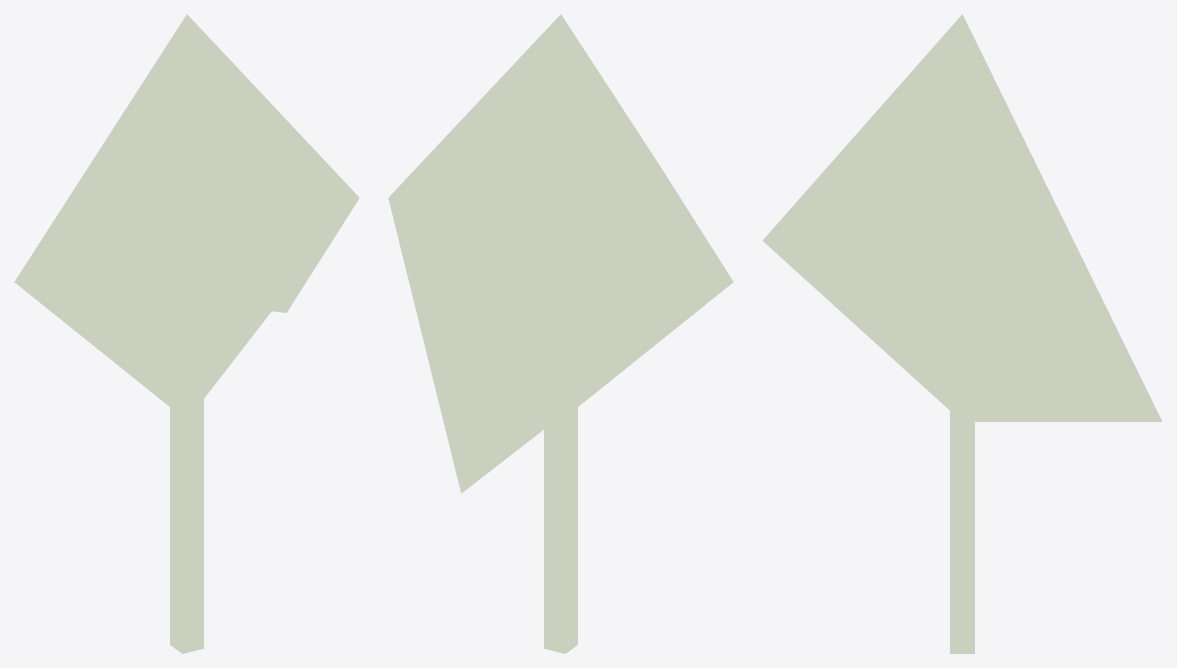
File: birch_mid.glb
3 renders of one model, left to right at view 1: azimuth 30°, elevation 25°; view 2: azimuth 150°, elevation 25°; view 3: azimuth 270°, elevation 25°, orthographic.
Parts seen in each view (by area): view 1: BirchMidRoot; view 2: BirchMidRoot; view 3: BirchMidRoot.
Part boxes in pixels (x1=…): BirchMidRoot: x1=14, y1=14, x2=359, y2=653; BirchMidRoot: x1=388, y1=14, x2=733, y2=653; BirchMidRoot: x1=762, y1=14, x2=1162, y2=653.
Bounding box in the file's own units: 8 × 14 × 8.
